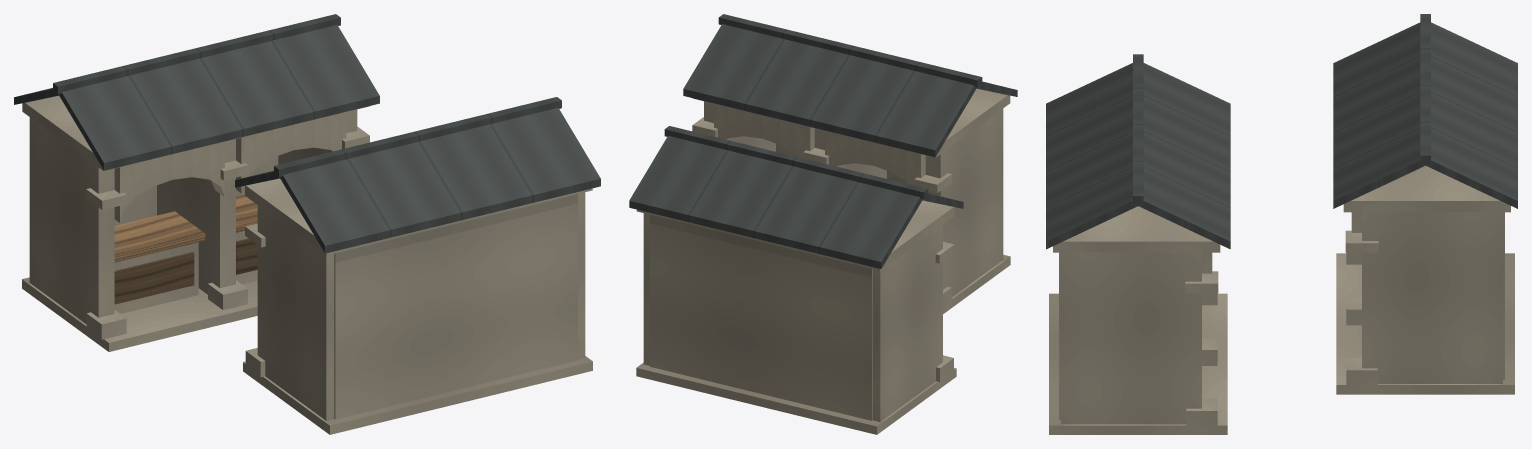
Rendered from papeete.glb.
3 views of the same model, side by side, from view 1: azimuth 30°, elevation 25°; view 2: azimuth 150°, elevation 25°; view 3: azimuth 270°, elevation 25° (orthographic). The views are drawn at different scales.
Visible parts, largest first — view 1: papeete; view 2: papeete; view 3: papeete.
Part boxes in pixels (box(x1,y1,x2,y2)): papeete: box(14, 14, 600, 434); papeete: box(629, 14, 1017, 434); papeete: box(1046, 14, 1517, 434).
Size of the model in its own units: 4 by 2.5 by 4.39.
1 material, 1 textured.
